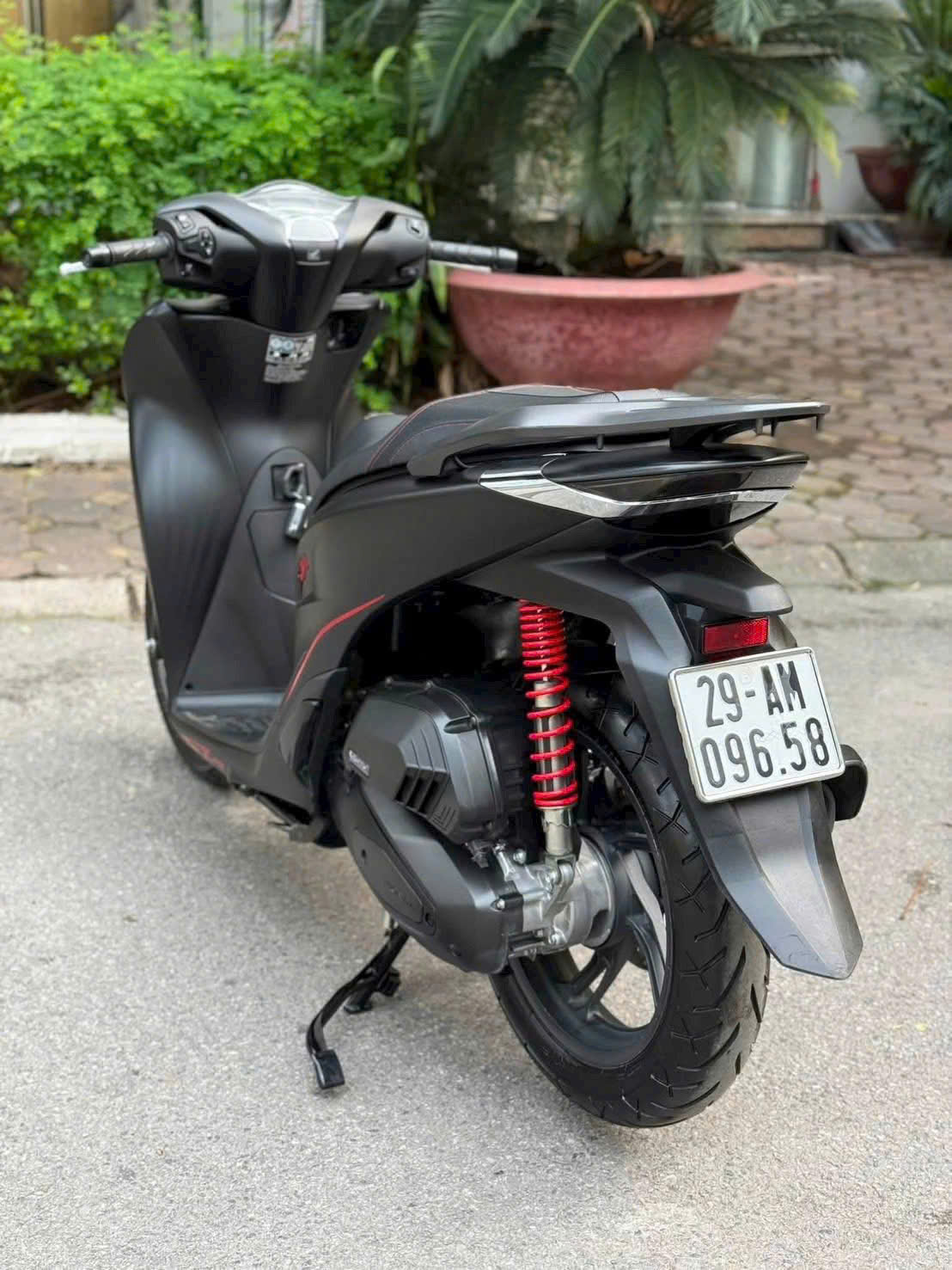Bien-so: (670, 639, 849, 804)
